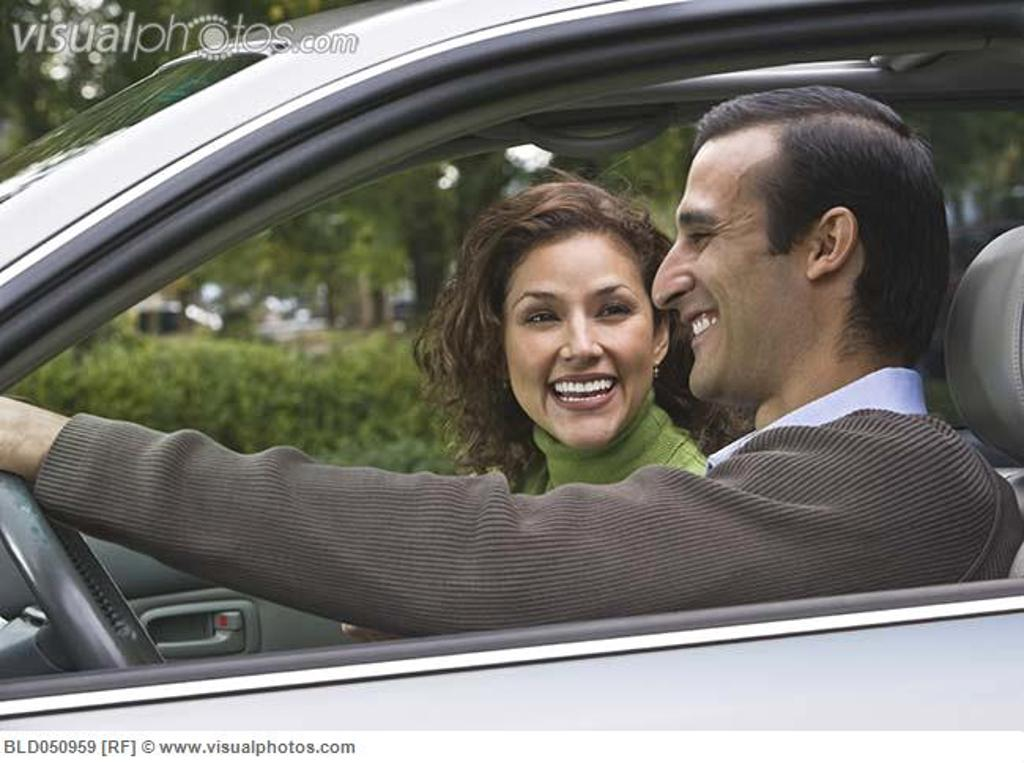face: (654, 134, 806, 394), (506, 230, 658, 440)
